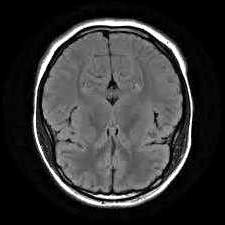Normal_Brain: (16, 10, 211, 225)
